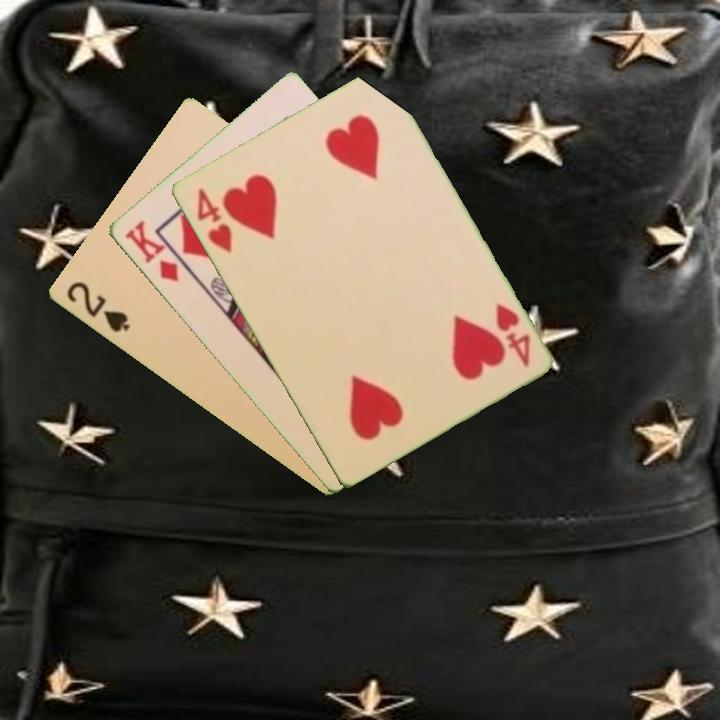2s: (62, 278, 133, 336)
4h: (192, 184, 235, 256), (491, 299, 533, 371)
Kd: (120, 216, 182, 285)
